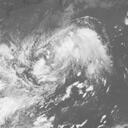cyclone: (33, 29, 108, 85)
